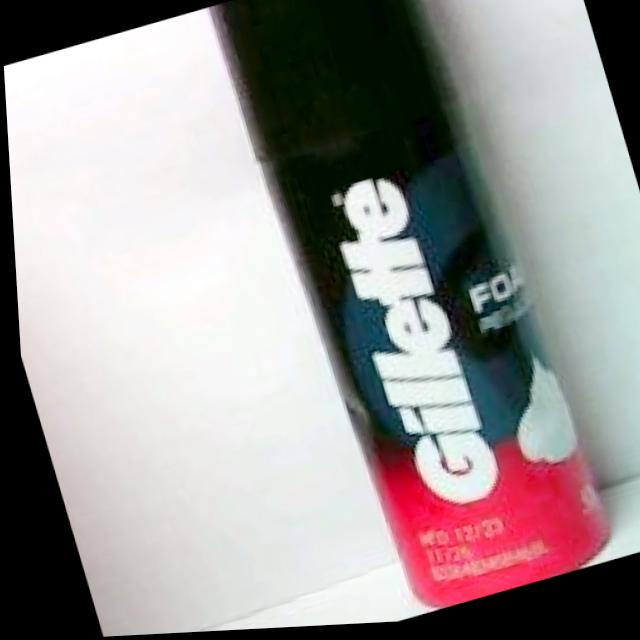gillette-foam: (206, 0, 605, 615)
